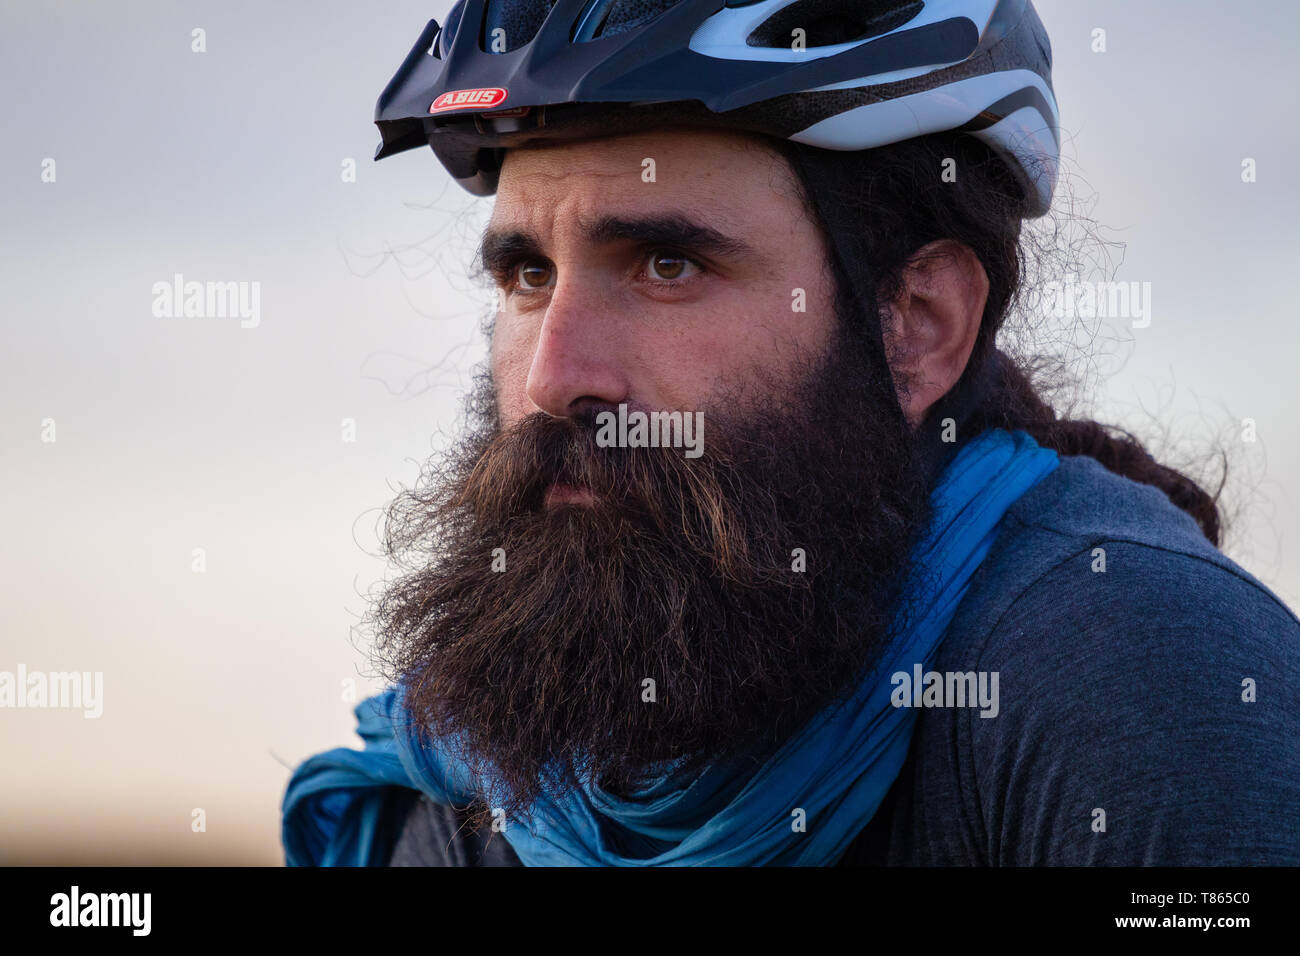helmet: (373, 1, 1063, 626)
